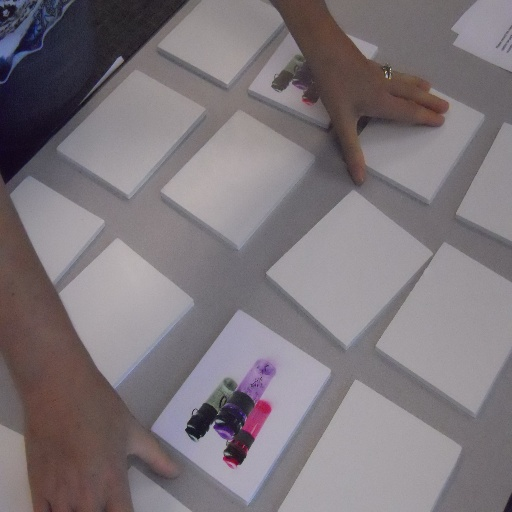hand: (26, 368, 181, 511), (317, 36, 450, 186)
